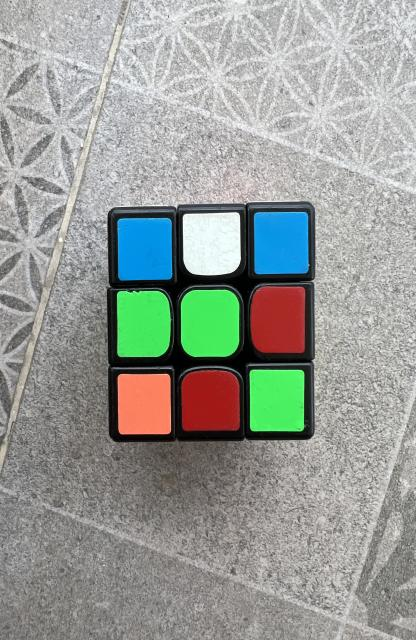Blue: (117, 218, 172, 281), (254, 212, 309, 275)
Green: (181, 290, 239, 358), (117, 290, 171, 358), (249, 370, 304, 431)
Orange: (117, 374, 171, 435)
Red: (250, 286, 306, 354), (181, 370, 239, 431)
White: (183, 212, 240, 275)
